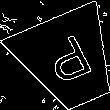P_SE: (39, 30, 99, 91)
